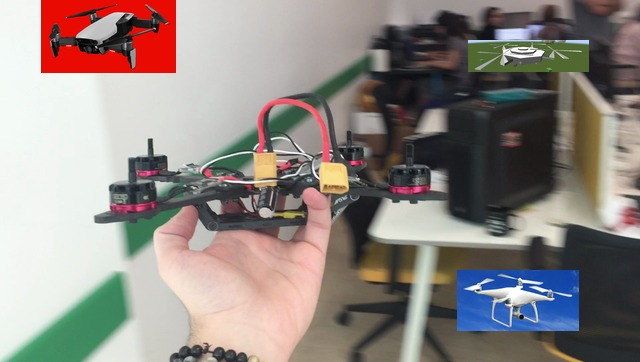drone: (92, 94, 451, 233), (41, 0, 176, 73), (457, 270, 579, 331), (468, 40, 589, 72)
